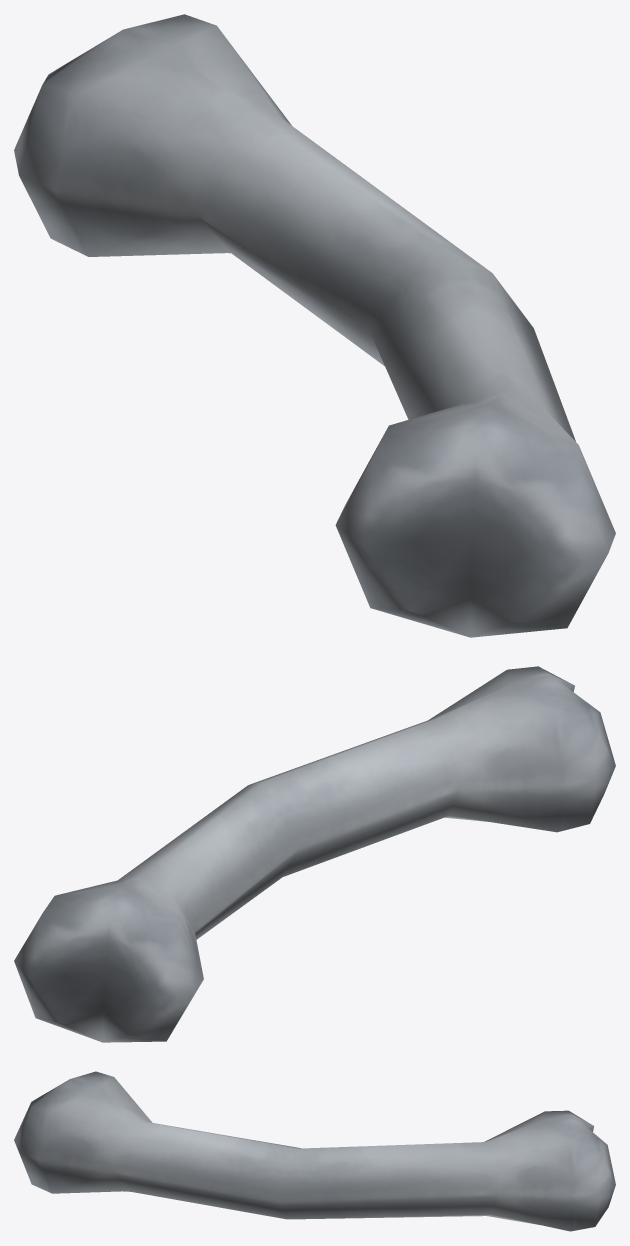
The model's file is Bone2.FBX.
The picture shows the model from 3 angles, top to bottom: view 1: azimuth 30°, elevation 25°; view 2: azimuth 150°, elevation 25°; view 3: azimuth 270°, elevation 25°; orthographic projection. The views are drawn at different scales.
Visible parts, largest first — view 1: Object083; view 2: Object083; view 3: Object083.
Part boxes in pixels (x1,y1,x2,y2): Object083: (14, 14, 615, 637); Object083: (14, 666, 615, 1042); Object083: (14, 1071, 615, 1231).
Bounding box in the file's own units: 9.7 × 5.14 × 26.52.
1 material, 1 textured.
